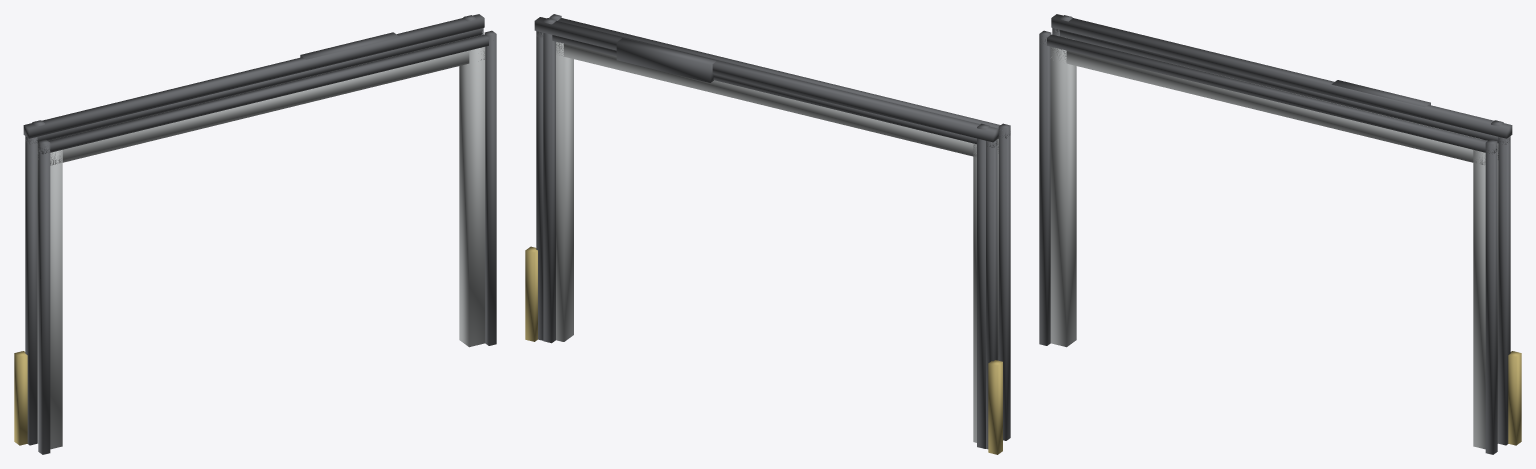
Rendered from bay_opening_loading_bay_w480_h320_d20.glb.
3 views of the same model, side by side, from view 1: azimuth 30°, elevation 25°; view 2: azimuth 150°, elevation 25°; view 3: azimuth 330°, elevation 25° (orthographic).
Parts seen in each view (by area): view 1: world; view 2: world; view 3: world.
Part boxes in pixels (x1,y1,x2,y2): world: [14, 14, 496, 454]; world: [525, 14, 1010, 454]; world: [1039, 14, 1521, 454].
Size of the model in its own units: 5.54 by 3.59 by 0.422.
